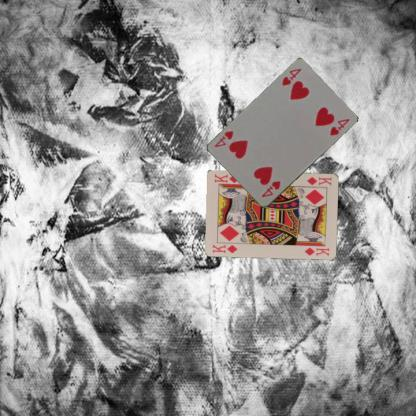4h: (279, 66, 303, 87), (259, 178, 282, 199)
Kd: (304, 174, 333, 187), (210, 242, 239, 254)
